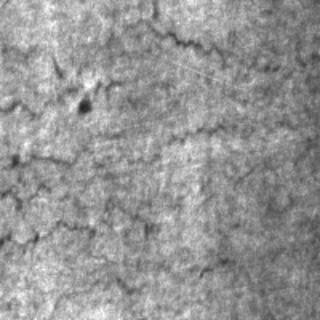crazing: (0, 15, 284, 117), (0, 144, 168, 296)
